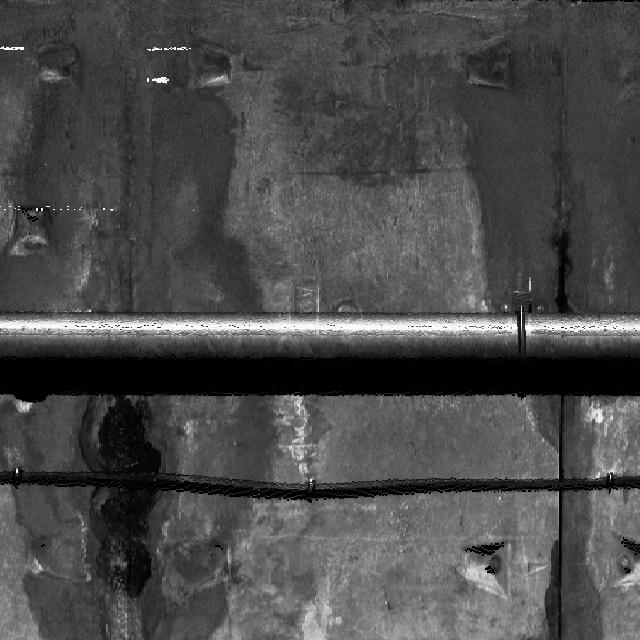leakage: (0, 1, 269, 308), (0, 395, 302, 637), (432, 5, 639, 314), (517, 390, 615, 639)
